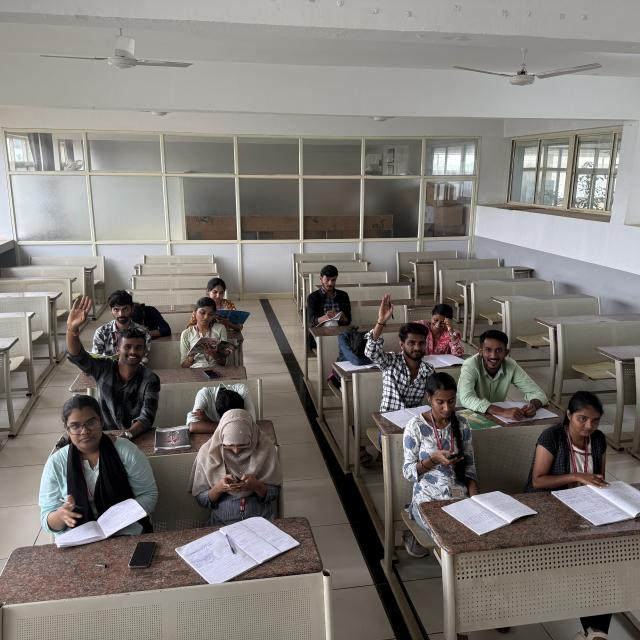Hand Rising: (60, 292, 150, 411), (366, 292, 428, 398)
Reading: (189, 276, 251, 335), (177, 302, 238, 361), (421, 302, 470, 366)
Sleeping: (186, 379, 265, 438), (331, 320, 378, 364)
Using Phone: (200, 415, 290, 513)
Writing: (36, 389, 137, 533), (534, 391, 623, 494), (411, 370, 477, 485), (304, 263, 355, 327)
